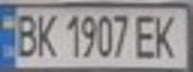0: (96, 11, 115, 58)
1: (60, 10, 81, 57)
7: (112, 11, 133, 58)
9: (78, 11, 96, 58)
B: (9, 10, 39, 58)
E: (133, 11, 160, 60)
K: (151, 10, 184, 60), (33, 10, 60, 58)
